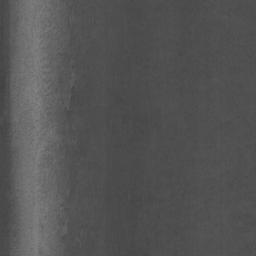Silk spot: (57, 80, 82, 136), (60, 0, 85, 51), (43, 71, 71, 116), (60, 161, 78, 220), (57, 214, 75, 256), (59, 139, 86, 160), (56, 52, 79, 69), (39, 154, 53, 168)
